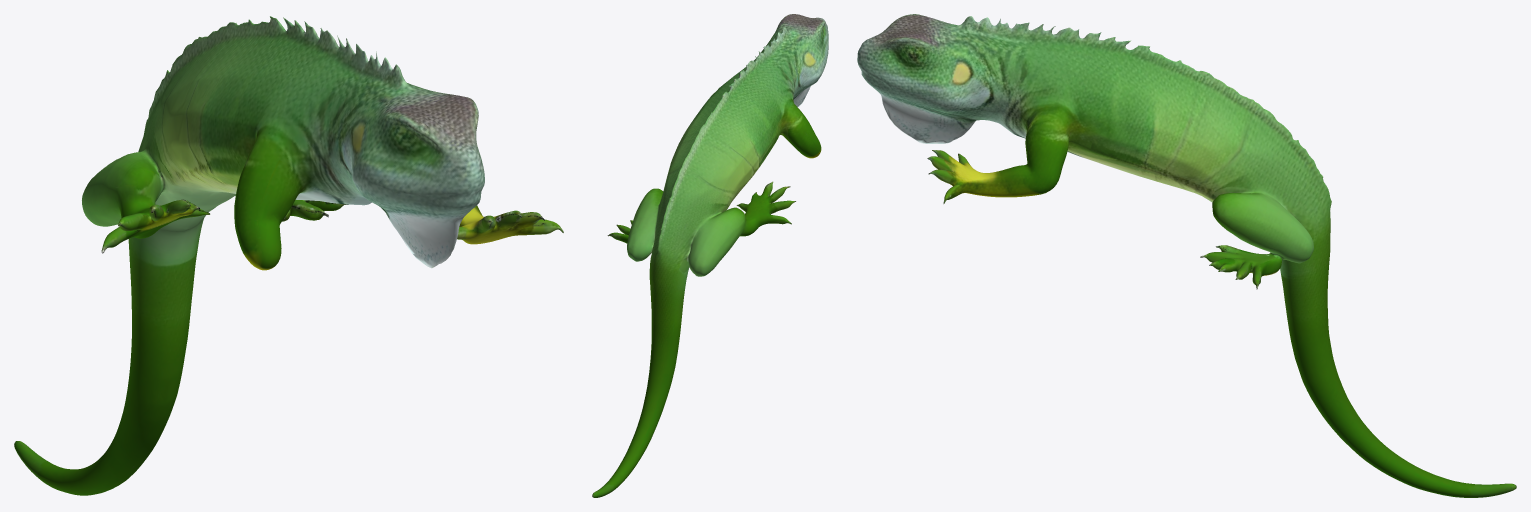
File: iguana_climbing.glb
3 views of the same model, side by side, from view 1: azimuth 30°, elevation 25°; view 2: azimuth 150°, elevation 25°; view 3: azimuth 270°, elevation 25° (orthographic). The views are drawn at different scales.
Visible parts, largest first — view 1: model; view 2: model; view 3: model.
Boxes of the visible parts, x1=… form: model: x1=14, y1=16, x2=563, y2=495; model: x1=592, y1=14, x2=828, y2=497; model: x1=857, y1=14, x2=1516, y2=497.
Bounding box in the file's own units: 0.7334 × 1.53 × 1.9.
1 material, 1 textured.
